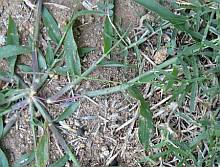crabgrass: (12, 26, 95, 167), (157, 9, 220, 147)
